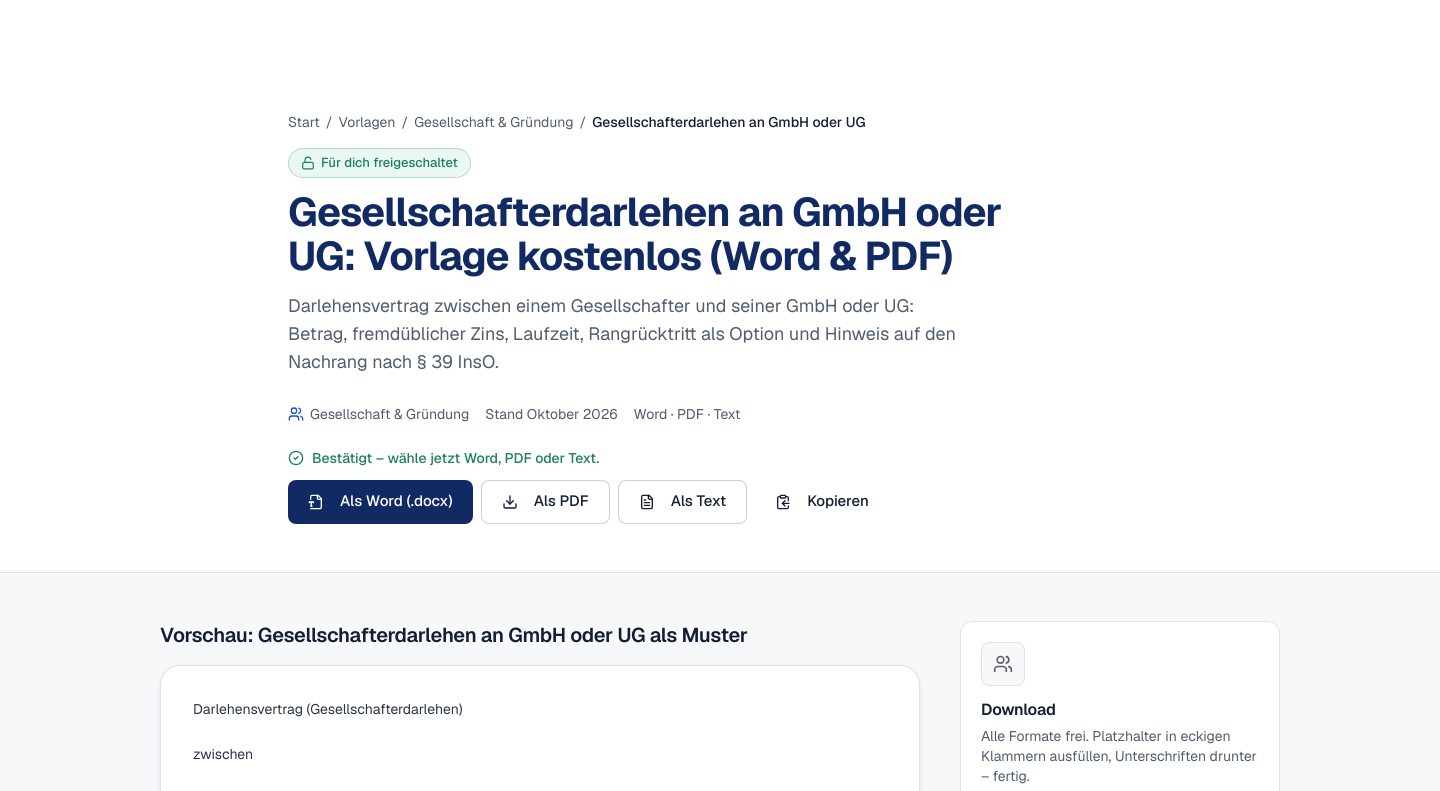
Vorlage nach der Bestätigung: erst Download, dann nächster Schritt › Landung aus der Mail: Hinweis über den Knöpfen, kein Kasten vor dem Download, Kasten danach
Expected: the text "Bestätigt – wähle jetzt Word, PDF oder Text." is shown, [288,448,600,466]
Expected: the element with test id "vorlage-knoepfe" shows "Bestätigt – wähle jetzt Word, PDF oder Text.", [312,448,600,466]
Click the button "Als Text". click: (682, 502)
box: [618,480,747,524]
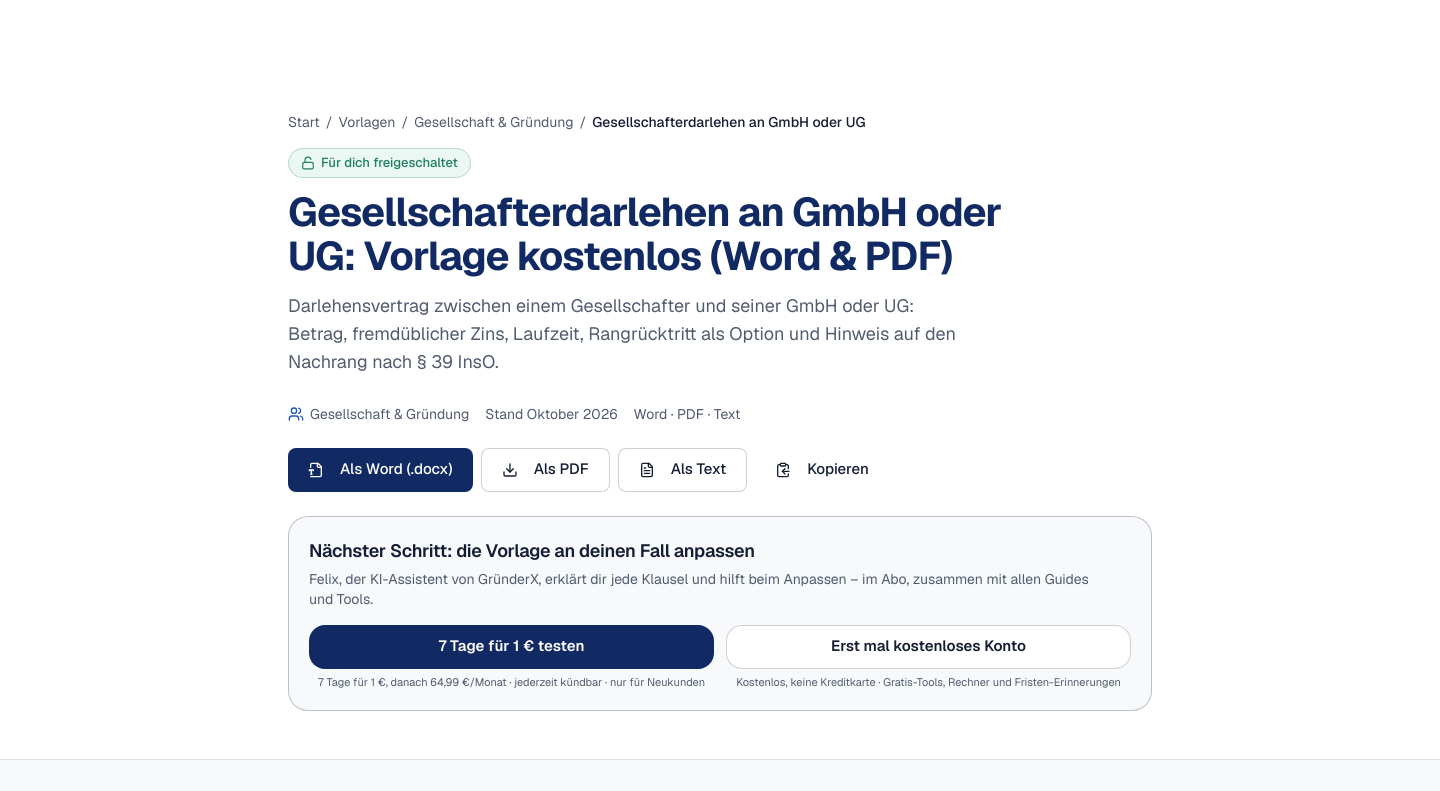
Now the element with test id "vorlage-weiter" is shown, box [288,516,1152,711]
Now the element with test id "vorlage-weiter" shows "Nächster Schritt: die Vorlage an deinen Fall anpassen", box [309,538,755,562]
Now the button "7 Tage für 1 € testen" is shown, box [309,624,714,668]
